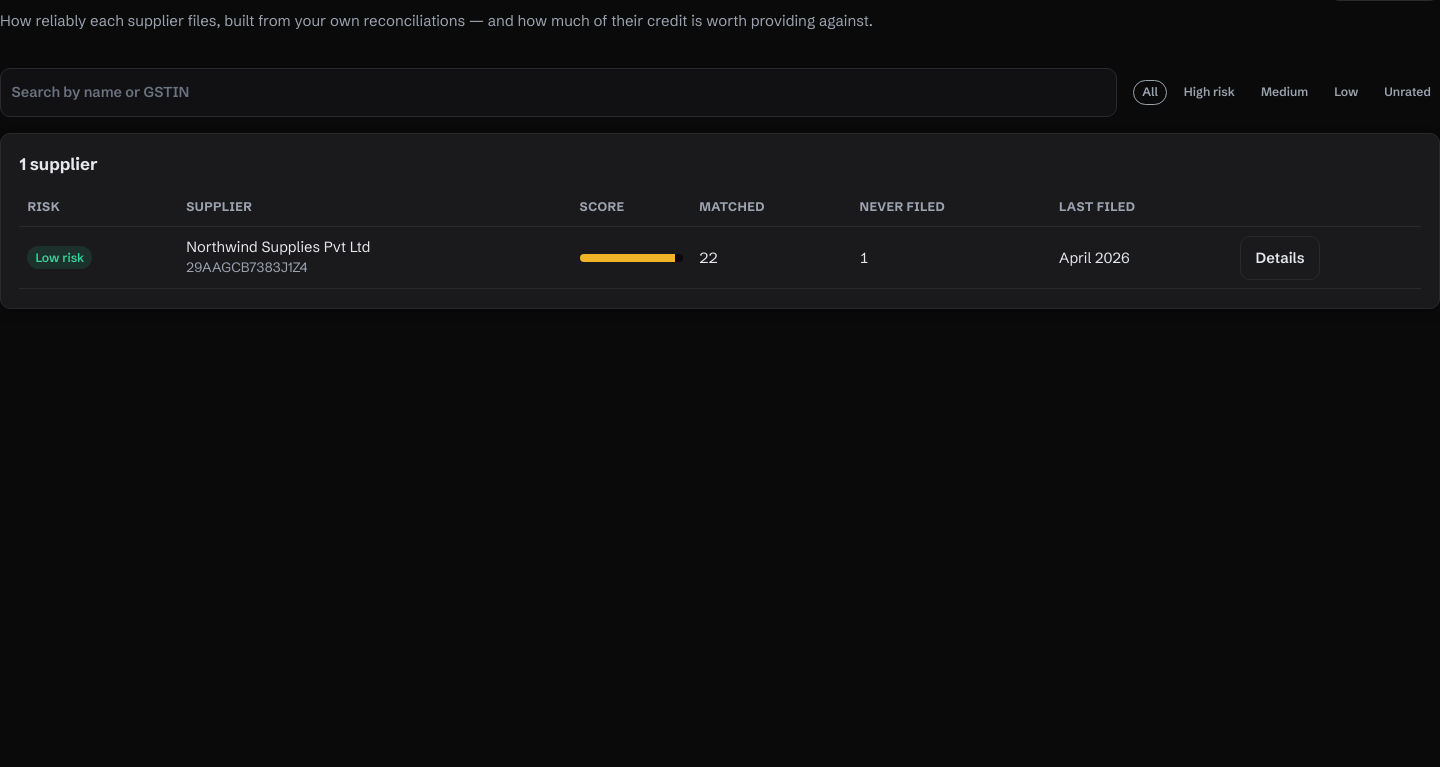
Test: SuppliersPage › opens the breakdown behind a supplier's score
Click the button "Details".
click(1280, 258)  # box [1240,236,1320,280]
(page scrolled)
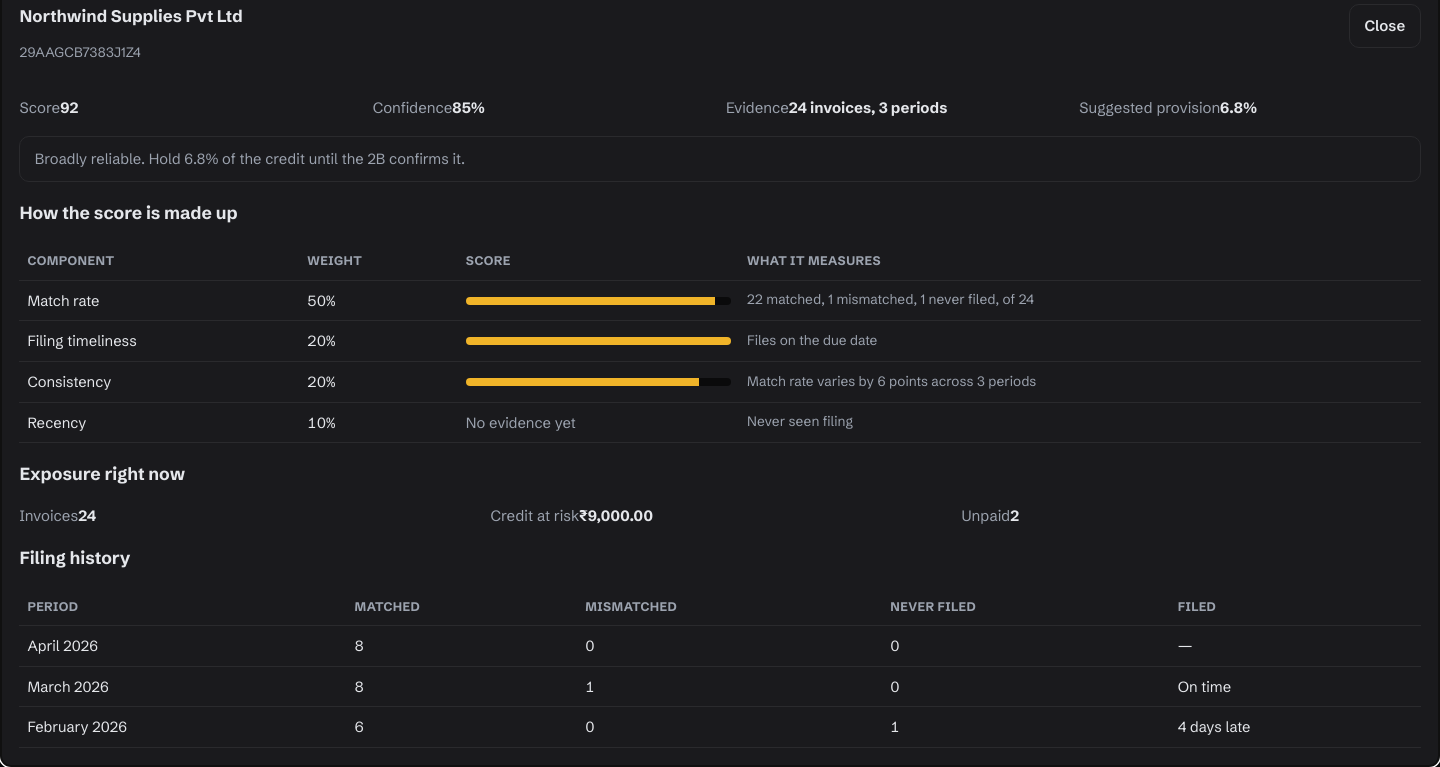
expect the text "Match rate" is shown: met, box [19,280,299,321]
expect the text "Filing timeliness" is shown: met, box [19,321,299,362]
expect the text "22 matched, 1 mismatched, 1 never filed, of 24" is shown: met, box [739,280,1421,321]
